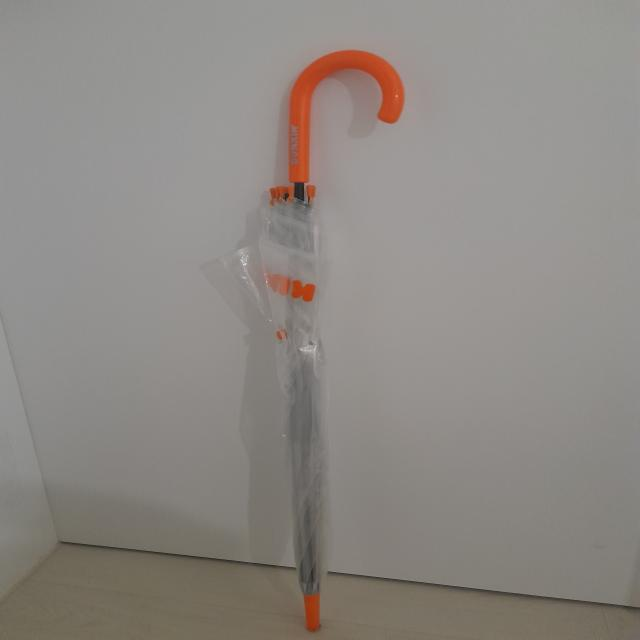umbrella: (226, 49, 404, 629)
